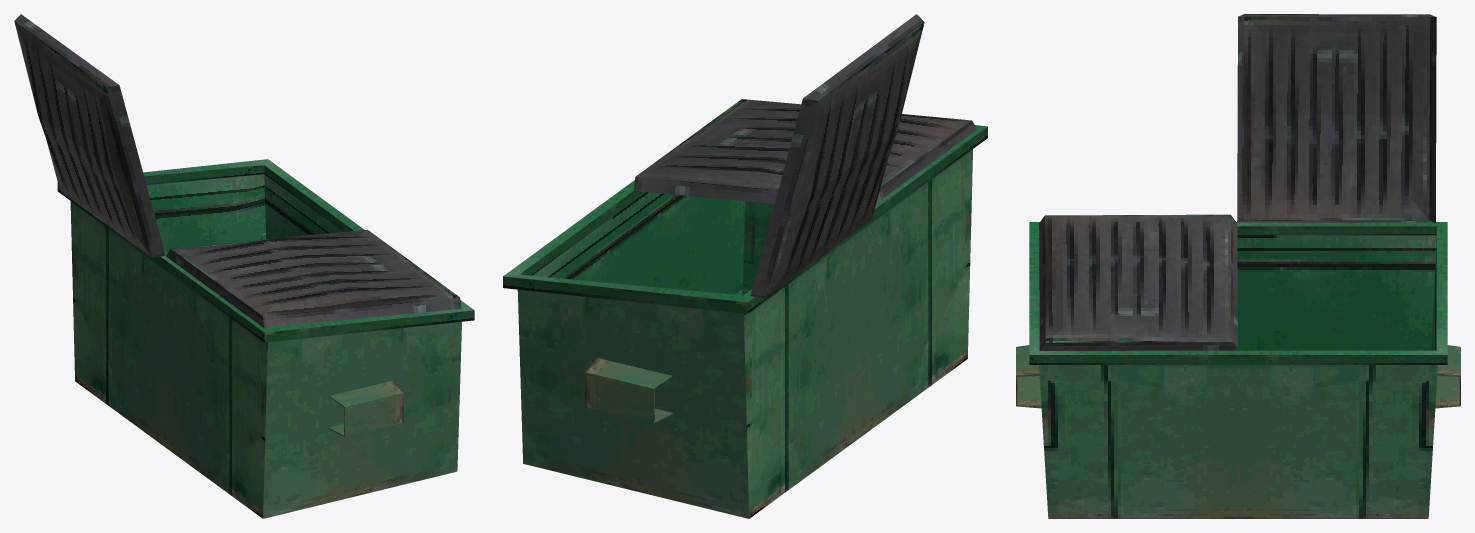
The model's file is dumpster_diagonal_empty_open.glb.
3 renders of one model, left to right at view 1: azimuth 30°, elevation 25°; view 2: azimuth 150°, elevation 25°; view 3: azimuth 270°, elevation 25°, orthographic. The views are drawn at different scales.
Visible parts, largest first — view 1: dumpster_diagonal_empty_open; view 2: dumpster_diagonal_empty_open; view 3: dumpster_diagonal_empty_open.
Boxes of the visible parts, x1=… form: dumpster_diagonal_empty_open: x1=14, y1=14, x2=474, y2=518; dumpster_diagonal_empty_open: x1=503, y1=14, x2=987, y2=518; dumpster_diagonal_empty_open: x1=1016, y1=14, x2=1460, y2=518.
Size of the model in its own units: 2.53 by 3.48 by 3.67.
1 material, 1 textured.
